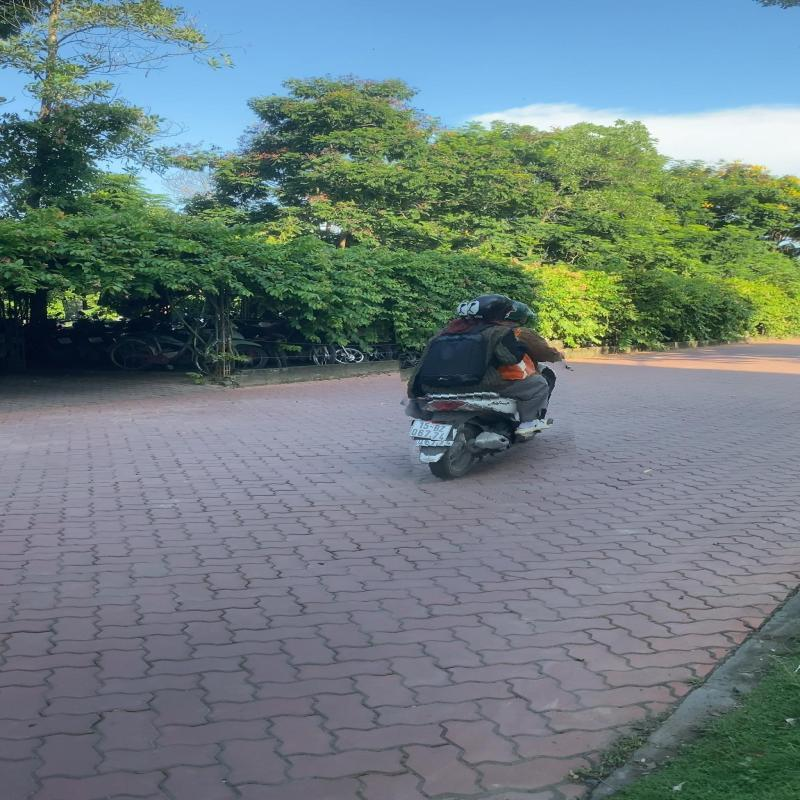helmet: (467, 294, 514, 322), (508, 302, 539, 328)
licenseplate: (409, 420, 453, 442)
motorcyclist: (398, 290, 574, 480)
